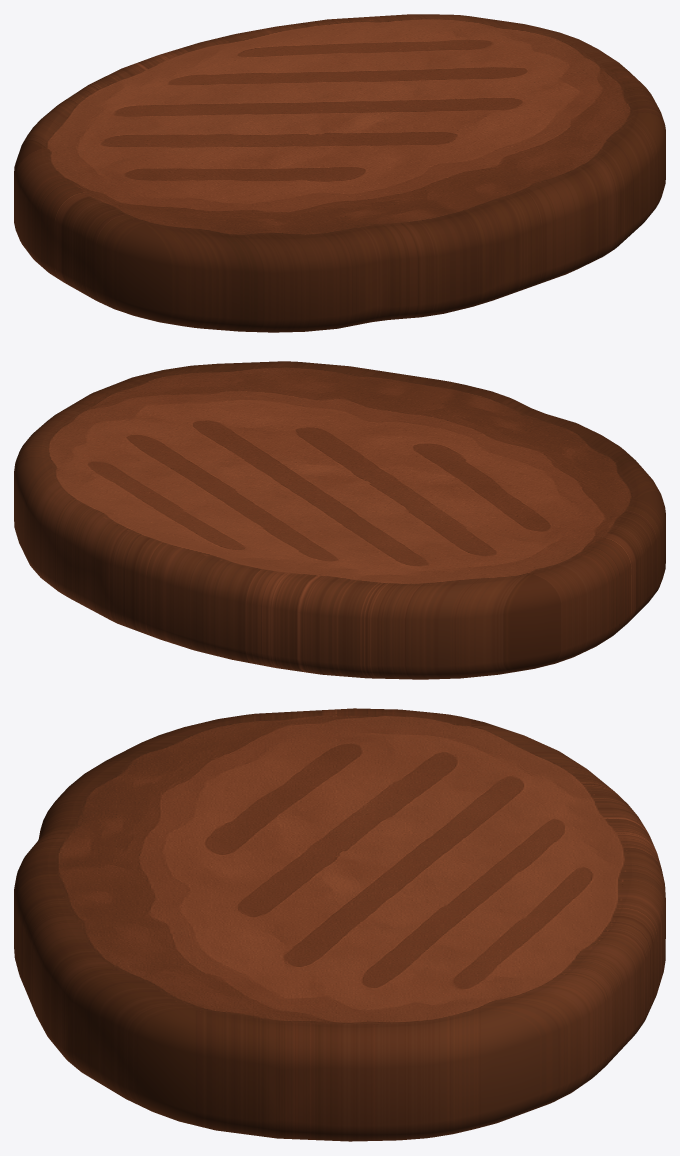
Rendered from burger.glb.
3 views of the same model, one above another, from view 1: azimuth 30°, elevation 25°; view 2: azimuth 150°, elevation 25°; view 3: azimuth 270°, elevation 25° (orthographic). The views are drawn at different scales.
Visible parts, largest first — view 1: OuterCurve; view 2: OuterCurve; view 3: OuterCurve.
Part boxes in pixels (x1,y1,x2,y2): OuterCurve: (14, 14, 665, 332); OuterCurve: (14, 361, 665, 679); OuterCurve: (14, 708, 665, 1141).
Size of the model in its own units: 6.01 by 0.9 by 4.8.
1 material, 1 textured.
